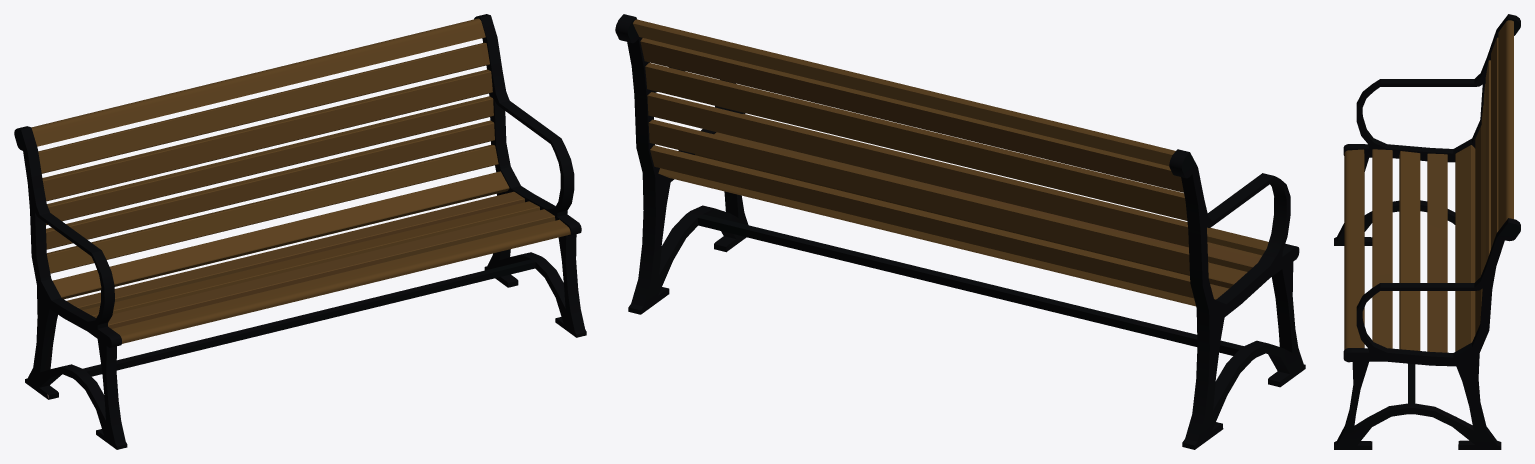
The model's file is e8b9b40d-27ca-42ff-a3e0-c87dea84e22a.glb.
The picture shows the model from 3 angles, left to right: view 1: azimuth 30°, elevation 25°; view 2: azimuth 150°, elevation 25°; view 3: azimuth 270°, elevation 25°; orthographic projection. The views are drawn at different scales.
Visible parts, largest first — view 1: BenchIronVinyl; view 2: BenchIronVinyl; view 3: BenchIronVinyl.
Part boxes in pixels (x1,y1,x2,y2): BenchIronVinyl: (14,14,586,449); BenchIronVinyl: (615,14,1305,449); BenchIronVinyl: (1334,14,1520,449).
Size of what is drawn, in the model's own units: 1.99 by 1.01 by 0.7529.
Materials: 1 (1 with a texture image).
